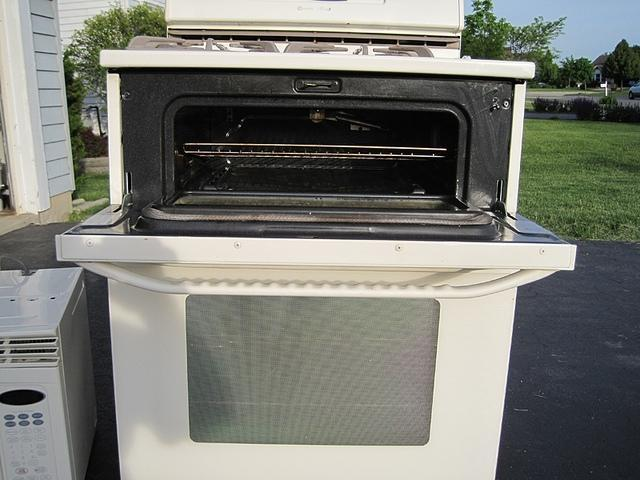car: (628, 80, 640, 100)
